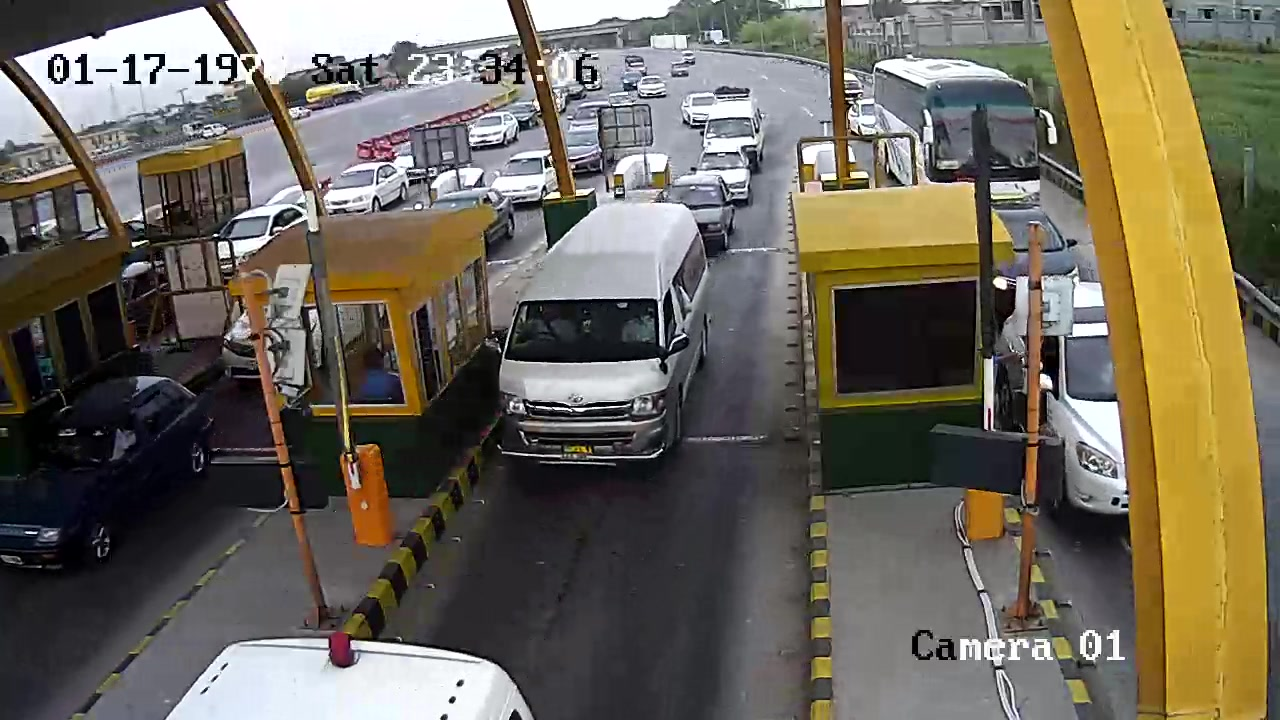F2: (483, 199, 721, 490)
